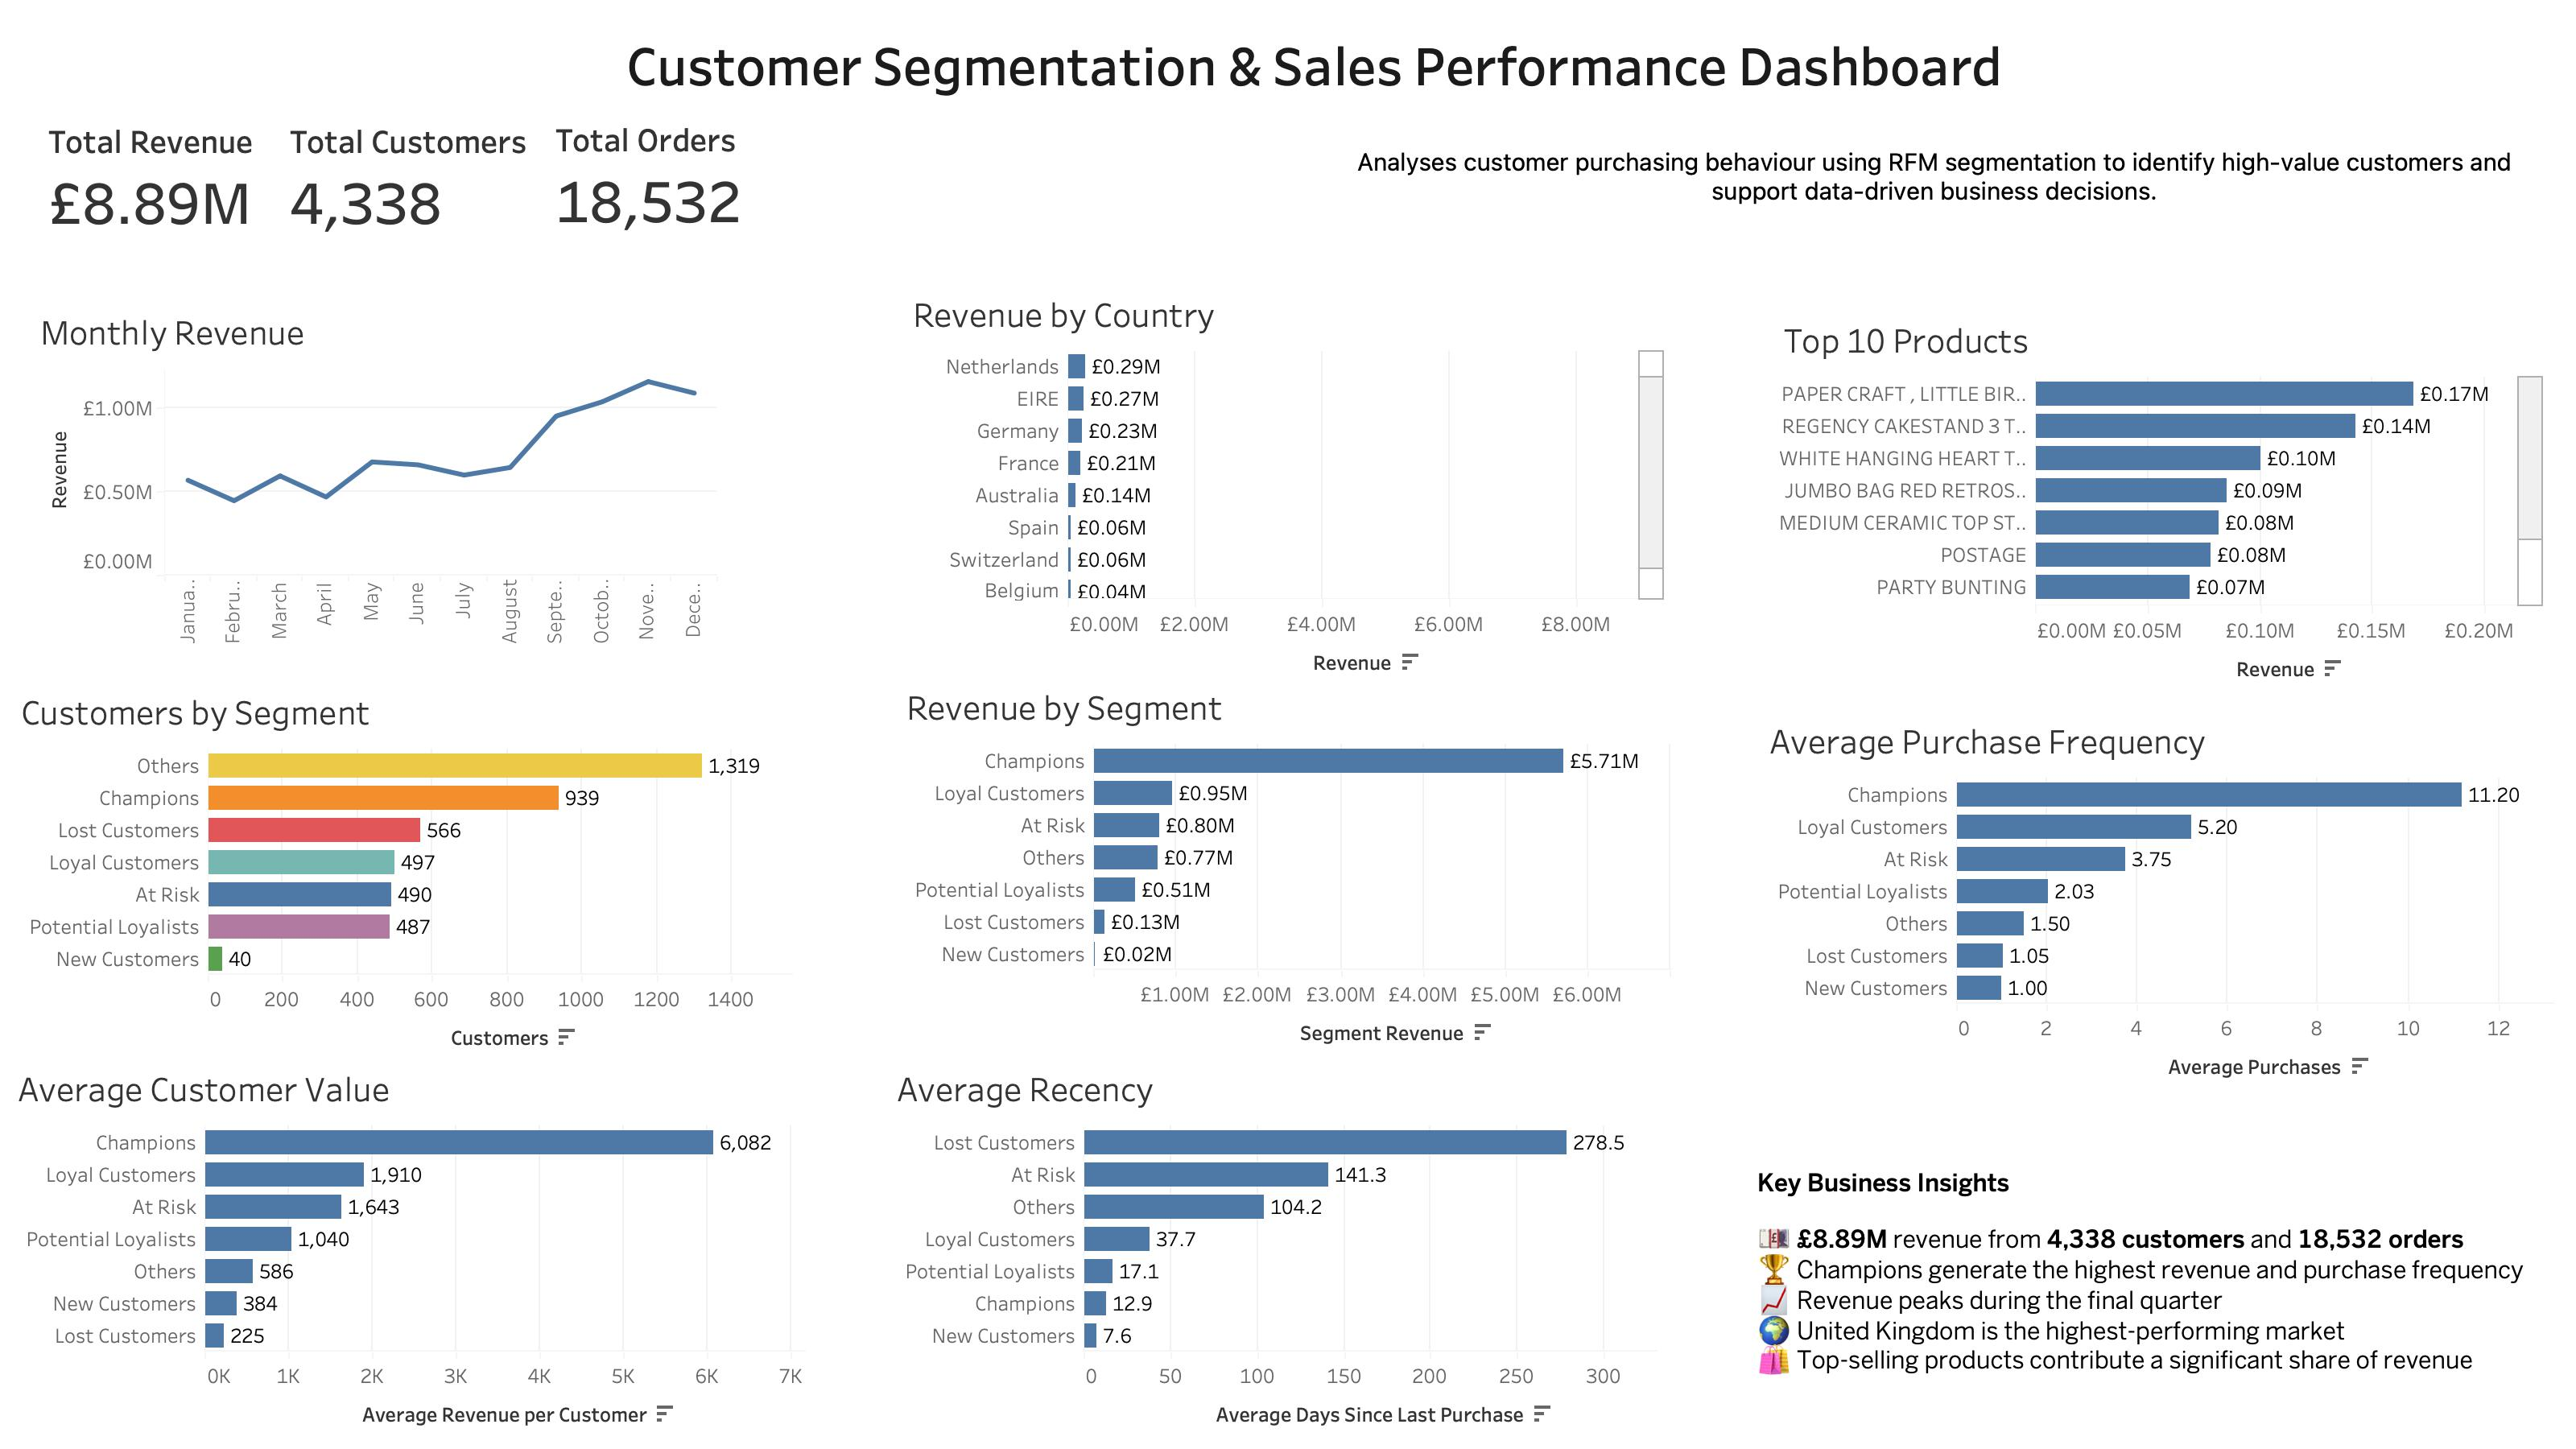

Layout of this report page (visuals, bound fields, positions):
{"tool":"tableau","page":{"name":"Dashboard 2","canvas":[1600,900],"ordinal":1},"visuals":[{"type":"text","box":[62.4,14.6,1508.8,50.6]},{"type":"text","box":[826,73,751,73]},{"type":"worksheet","title":"Total Orders","mark":"Automatic","box":[341,74,153,83]},{"type":"worksheet","title":"Total Revenue","mark":"Text","box":[26,75,145,81]},{"type":"worksheet","title":"Total Customers","mark":"Automatic","box":[176,75,161,80]},{"type":"worksheet","title":"Revenue by Country","mark":"Bar","rows":["Country"],"cols":["TotalPrice"],"box":[563,175,471,252]},{"type":"worksheet","title":"Monthly Revenue","mark":"Automatic","rows":["TotalPrice"],"cols":["InvoiceDate"],"box":[21,186,424,215]},{"type":"worksheet","title":"Top 10 Products","mark":"Automatic","rows":["Description"],"cols":["TotalPrice"],"box":[1104,191,476,240]},{"type":"worksheet","title":"Revenue by Segment","mark":"Automatic","rows":["Customer_Segment"],"cols":["Segment_Revenue"],"box":[559,419,479,256]},{"type":"worksheet","title":"Customers by Segment","mark":"Automatic","rows":["Customer_Segment"],"cols":["Number_of_Customers"],"box":[9,422,483,245]},{"type":"worksheet","title":"Average Purchase Frequency","mark":"Automatic","rows":["Customer_Segment"],"cols":["Average_Frequency"],"box":[1095,440,491,271]},{"type":"worksheet","title":"Average Customer Value","mark":"Automatic","rows":["Customer_Segment"],"cols":["Average_Customer_Value"],"box":[7,656,493,245]},{"type":"worksheet","title":"Average Recency","mark":"Automatic","rows":["Customer_Segment"],"cols":["Average_Recency"],"box":[553,656,476,243]},{"type":"text","box":[1089,685,500,211]}]}

Visuals, with their boxes in screenshot pixels (x1, y1, x2, y2), scaled from the page's 1600x900 canvas onto the 2576x1449 screenshot:
text: x1=101 y1=23 x2=2529 y2=105
text: x1=1330 y1=118 x2=2539 y2=235
"Total Orders" worksheet: x1=549 y1=119 x2=795 y2=253
"Total Revenue" worksheet (Text marks): x1=42 y1=121 x2=275 y2=251
"Total Customers" worksheet: x1=283 y1=121 x2=543 y2=250
"Revenue by Country" worksheet (Bar marks): x1=906 y1=282 x2=1665 y2=687
"Monthly Revenue" worksheet: x1=34 y1=299 x2=716 y2=646
"Top 10 Products" worksheet: x1=1777 y1=308 x2=2544 y2=694
"Revenue by Segment" worksheet: x1=900 y1=675 x2=1671 y2=1087
"Customers by Segment" worksheet: x1=14 y1=679 x2=792 y2=1074
"Average Purchase Frequency" worksheet: x1=1763 y1=708 x2=2553 y2=1145
"Average Customer Value" worksheet: x1=11 y1=1056 x2=805 y2=1448
"Average Recency" worksheet: x1=890 y1=1056 x2=1657 y2=1447
text: x1=1753 y1=1103 x2=2558 y2=1443
